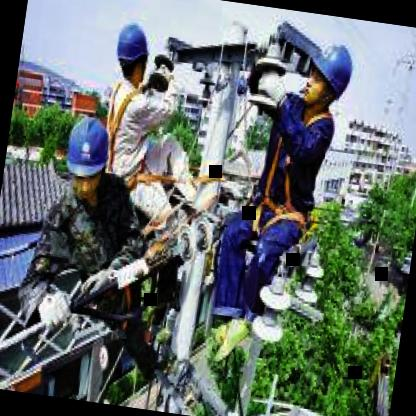helmet: (294, 30, 362, 118), (56, 105, 114, 207), (110, 16, 154, 92)
